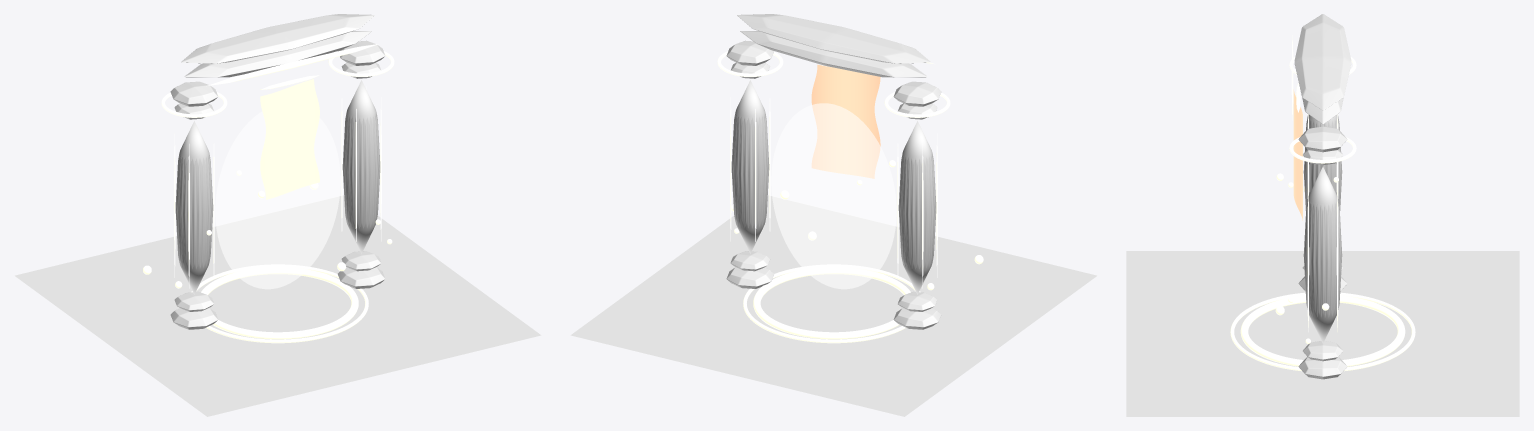
File: entrance_vault_r2_v3.glb
The picture shows the model from 3 angles, left to right: view 1: azimuth 30°, elevation 25°; view 2: azimuth 150°, elevation 25°; view 3: azimuth 270°, elevation 25°; orthographic projection.
Visible parts, largest first — view 1: vault_floor, vault_portal, vault_banner, vault_p0_s, vault_p1_s, vault_lintel_top, vault_lintel, vault_ring, vault_ring2, vault_lintel_trim, vault_p0_c2, vault_p0_b1 (+4 smaller); view 2: vault_floor, vault_portal, vault_banner, vault_p0_s, vault_p1_s, vault_lintel_top, vault_lintel, vault_ring, vault_ring2, vault_p0_c2, vault_p1_c2, vault_p0_b1 (+3 smaller); view 3: vault_floor, vault_p1_s, vault_lintel_top, vault_ring, vault_ring2, vault_p0_s, vault_banner, vault_p1_c2, vault_p1_b1, vault_p1_b2, vault_lintel, vault_p1_tr (+1 smaller).
Part boxes in pixels (box(x1,y1,x2,y2)): vault_floor: box(15, 195, 541, 416); vault_portal: box(215, 111, 340, 289); vault_banner: box(260, 79, 319, 199); vault_p0_s: box(175, 121, 213, 294); vault_p1_s: box(342, 80, 380, 253); vault_lintel_top: box(181, 14, 374, 63); vault_lintel: box(184, 31, 371, 77); vault_ring: box(201, 267, 358, 339); vault_ring2: box(191, 264, 368, 343); vault_lintel_trim: box(206, 44, 378, 86); vault_p0_c2: box(170, 81, 218, 106); vault_p0_b1: box(170, 308, 218, 329); vault_floor: box(570, 195, 1096, 416); vault_portal: box(771, 103, 896, 289); vault_banner: box(811, 64, 880, 178); vault_p0_s: box(898, 121, 936, 294); vault_p1_s: box(731, 80, 769, 253); vault_lintel_top: box(737, 14, 930, 63); vault_lintel: box(740, 31, 927, 77); vault_ring: box(753, 267, 910, 339); vault_ring2: box(743, 264, 920, 343); vault_p0_c2: box(893, 81, 941, 106); vault_p1_c2: box(726, 40, 773, 65); vault_p0_b1: box(893, 308, 941, 329); vault_floor: box(1126, 251, 1519, 416); vault_p1_s: box(1303, 167, 1342, 343); vault_lintel_top: box(1294, 14, 1351, 110); vault_ring: box(1240, 295, 1405, 366); vault_ring2: box(1230, 292, 1415, 371); vault_p0_s: box(1303, 115, 1342, 210); vault_banner: box(1293, 89, 1302, 220); vault_p1_c2: box(1298, 126, 1347, 152); vault_p1_b1: box(1298, 357, 1347, 379); vault_p1_b2: box(1303, 341, 1342, 361); vault_lintel: box(1302, 98, 1343, 124); vault_p1_tr: box(1289, 137, 1356, 163).
Bounding box in the file's own units: 8 × 6.25 × 8.
